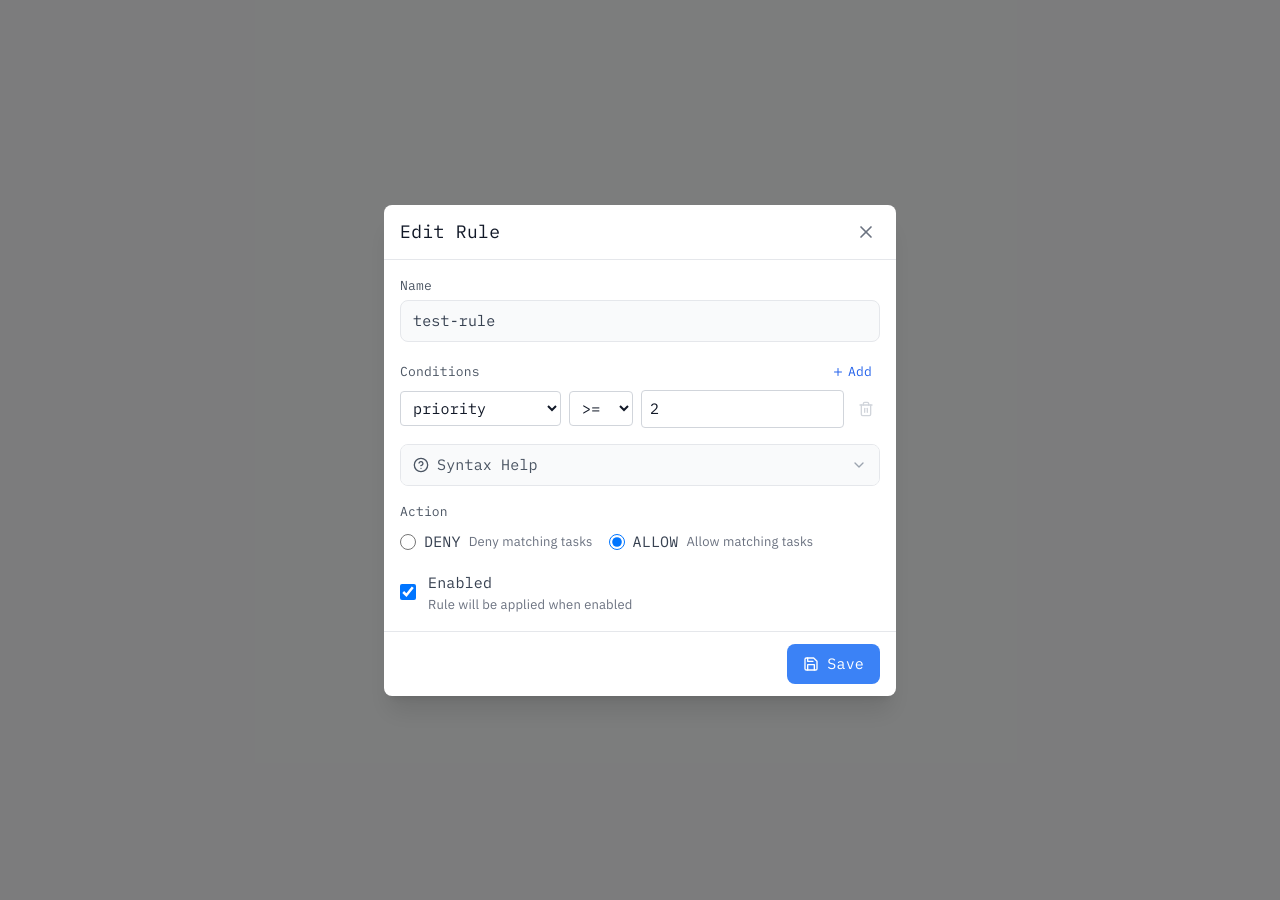
EditRuleModal › DENY/ALLOW radio button selection › switches from ALLOW to DENY when clicking DENY
Click the radio button labelled "DENY Deny matching tasks" at x=408, y=542, box left=400, top=534, right=416, bottom=550
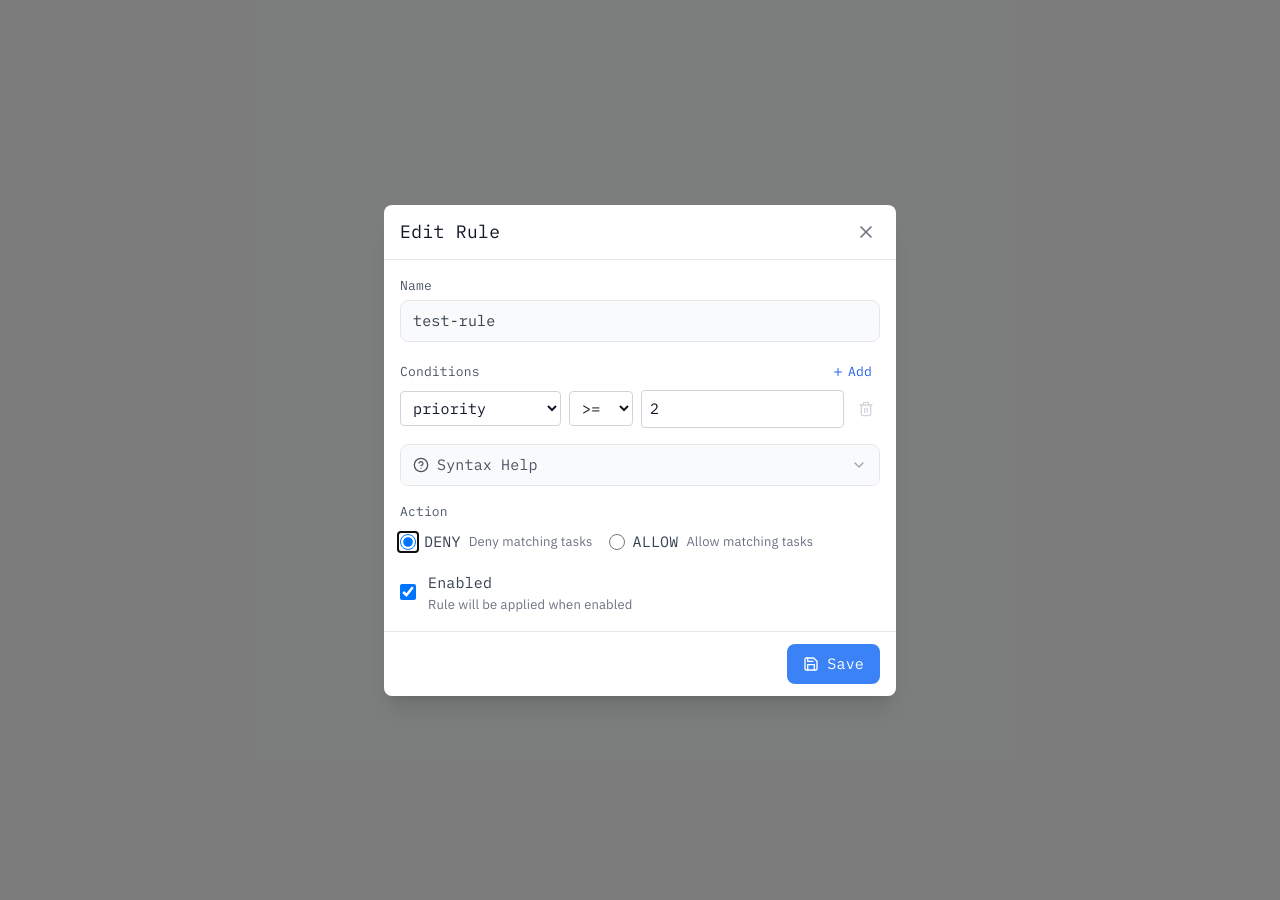
Expected: the radio button labelled "DENY Deny matching tasks" is checked, left=400, top=534, right=416, bottom=550
Expected: the radio button labelled "ALLOW Allow matching tasks" is not checked, left=609, top=534, right=625, bottom=550
